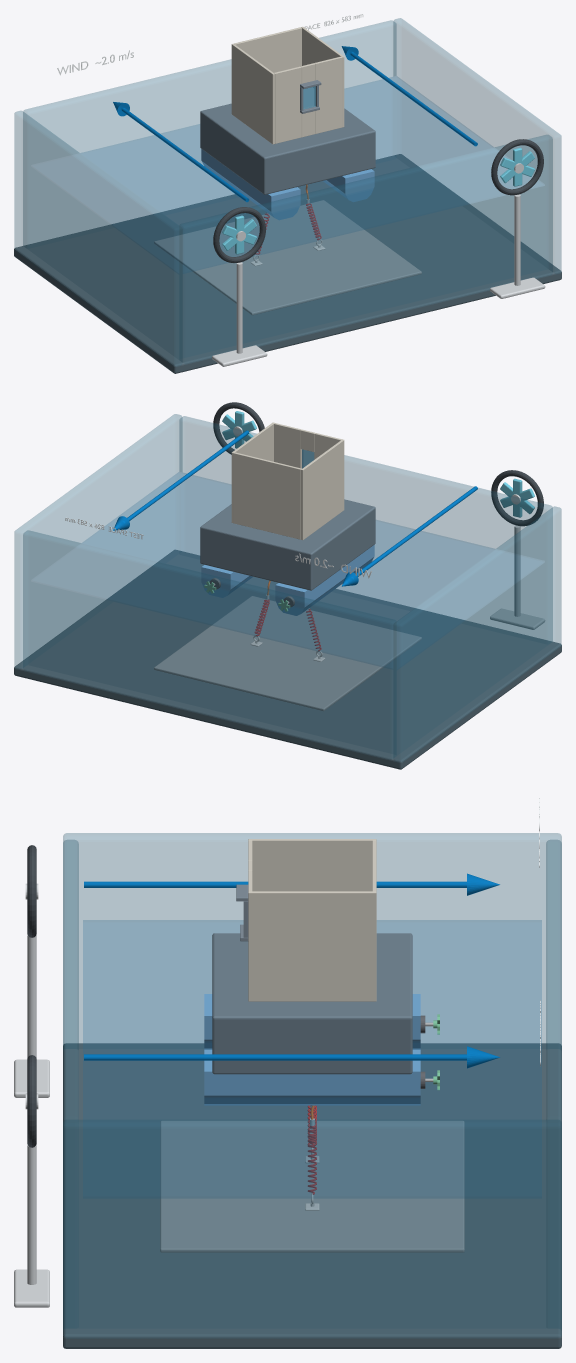
File: engg1100-flood-resistant-housing.glb
3 views of the same model, one above another, from view 1: azimuth 30°, elevation 25°; view 2: azimuth 150°, elevation 25°; view 3: azimuth 270°, elevation 25° (orthographic). The views are drawn at different scales.
Visible parts, largest first — view 1: Pool_Wall_Front, Pool_Floor_826x583, Water_Surface_180mm_Depth, Pool_Wall_Rear, Pool_Wall_Port, Pool_Wall_Starboard, Contact_Plate_380x380, Main_Deck, Sketch_Wall_Port, Port_Hull, Sketch_Wall_Front, Sketch_Wall_Rear_Right (+11 smaller); view 2: Pool_Wall_Rear, Pool_Floor_826x583, Water_Surface_180mm_Depth, Pool_Wall_Front, Pool_Wall_Port, Pool_Wall_Starboard, Contact_Plate_380x380, Main_Deck, Sketch_Wall_Front, Sketch_Wall_Port, Port_Hull, Sketch_Wall_Rear_Right (+8 smaller); view 3: Pool_Wall_Starboard, Pool_Floor_826x583, Water_Surface_180mm_Depth, Pool_Wall_Port, Contact_Plate_380x380, Main_Deck, Sketch_Wall_Starboard, Starboard_Hull, Sketch_Wall_Port, Pool_Wall_Rear, Pool_Wall_Front, Wind_Vector_Starboard_Shaft (+8 smaller).
Part boxes in pixels (bbox=[...]): Pool_Wall_Front: bbox=[179, 135, 552, 363]; Pool_Floor_826x583: bbox=[14, 154, 561, 373]; Water_Surface_180mm_Depth: bbox=[31, 76, 544, 273]; Pool_Wall_Rear: bbox=[23, 20, 396, 245]; Pool_Wall_Port: bbox=[14, 111, 182, 365]; Pool_Wall_Starboard: bbox=[393, 18, 561, 273]; Contact_Plate_380x380: bbox=[154, 200, 421, 315]; Main_Deck: bbox=[200, 103, 375, 194]; Sketch_Wall_Port: bbox=[231, 43, 274, 144]; Port_Hull: bbox=[201, 149, 300, 220]; Sketch_Wall_Front: bbox=[234, 27, 301, 72]; Sketch_Wall_Rear_Right: bbox=[314, 56, 342, 133]; Pool_Wall_Rear: bbox=[23, 530, 396, 759]; Pool_Floor_826x583: bbox=[14, 549, 561, 769]; Water_Surface_180mm_Depth: bbox=[31, 472, 544, 669]; Pool_Wall_Front: bbox=[179, 416, 552, 641]; Pool_Wall_Port: bbox=[393, 506, 561, 762]; Pool_Wall_Starboard: bbox=[14, 414, 181, 669]; Contact_Plate_380x380: bbox=[154, 596, 421, 711]; Main_Deck: bbox=[200, 499, 375, 590]; Sketch_Wall_Front: bbox=[233, 452, 301, 539]; Sketch_Wall_Port: bbox=[301, 439, 344, 540]; Port_Hull: bbox=[275, 545, 374, 615]; Sketch_Wall_Rear_Right: bbox=[274, 423, 301, 468]; Pool_Wall_Starboard: bbox=[63, 1120, 561, 1338]; Pool_Floor_826x583: bbox=[63, 1043, 561, 1348]; Water_Surface_180mm_Depth: bbox=[83, 920, 541, 1197]; Pool_Wall_Port: bbox=[63, 833, 561, 1048]; Contact_Plate_380x380: bbox=[160, 1120, 464, 1252]; Main_Deck: bbox=[212, 933, 412, 1074]; Sketch_Wall_Starboard: bbox=[248, 891, 376, 1001]; Starboard_Hull: bbox=[204, 1049, 420, 1105]; Sketch_Wall_Port: bbox=[248, 839, 376, 891]; Pool_Wall_Rear: bbox=[546, 840, 561, 1121]; Pool_Wall_Front: bbox=[63, 840, 78, 1121]; Wind_Vector_Starboard_Shaft: bbox=[84, 1054, 466, 1060].
Size of the model in its own units: 0.866 by 0.465 by 0.684.
